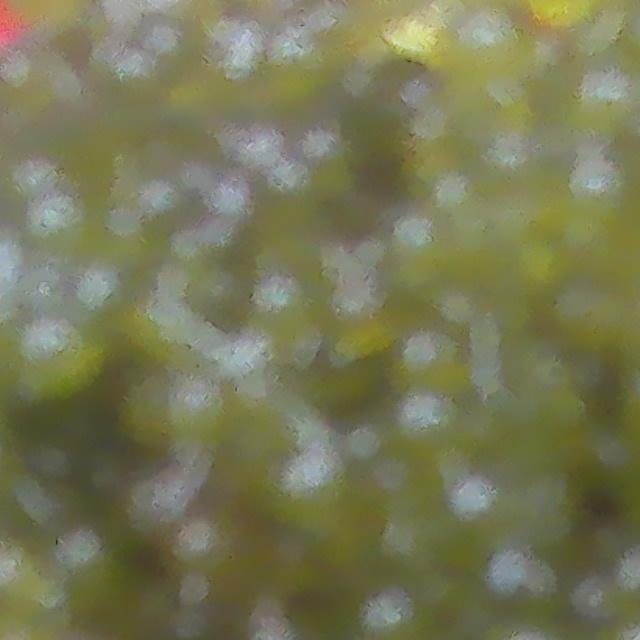SeaGrape: (390, 386, 462, 457)
